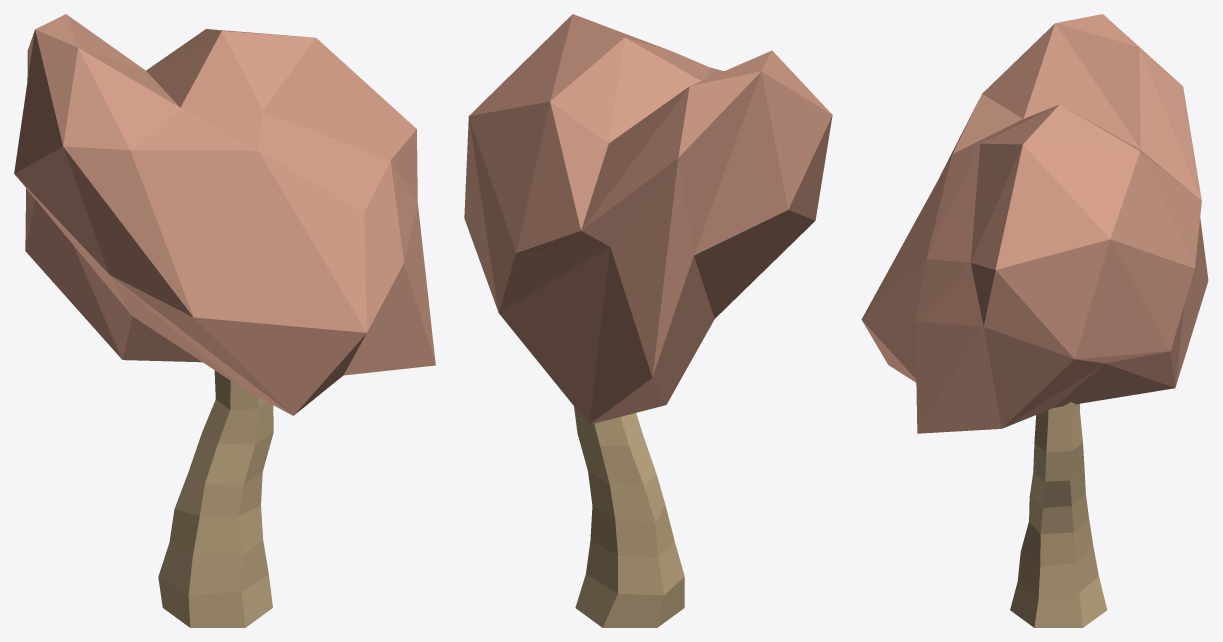
The model's file is Tree_05.fbx.
The picture shows the model from 3 angles, left to right: view 1: azimuth 30°, elevation 25°; view 2: azimuth 150°, elevation 25°; view 3: azimuth 270°, elevation 25°; orthographic projection. The views are drawn at different scales.
Visible parts, largest first — view 1: Tree_5; view 2: Tree_5; view 3: Tree_5.
Boxes of the visible parts, left/top/right/bottom form: Tree_5: left=14, top=14, right=435, bottom=627; Tree_5: left=464, top=14, right=832, bottom=627; Tree_5: left=861, top=14, right=1208, bottom=627.
Size of the model in its own units: 1058 by 1754 by 1044.
